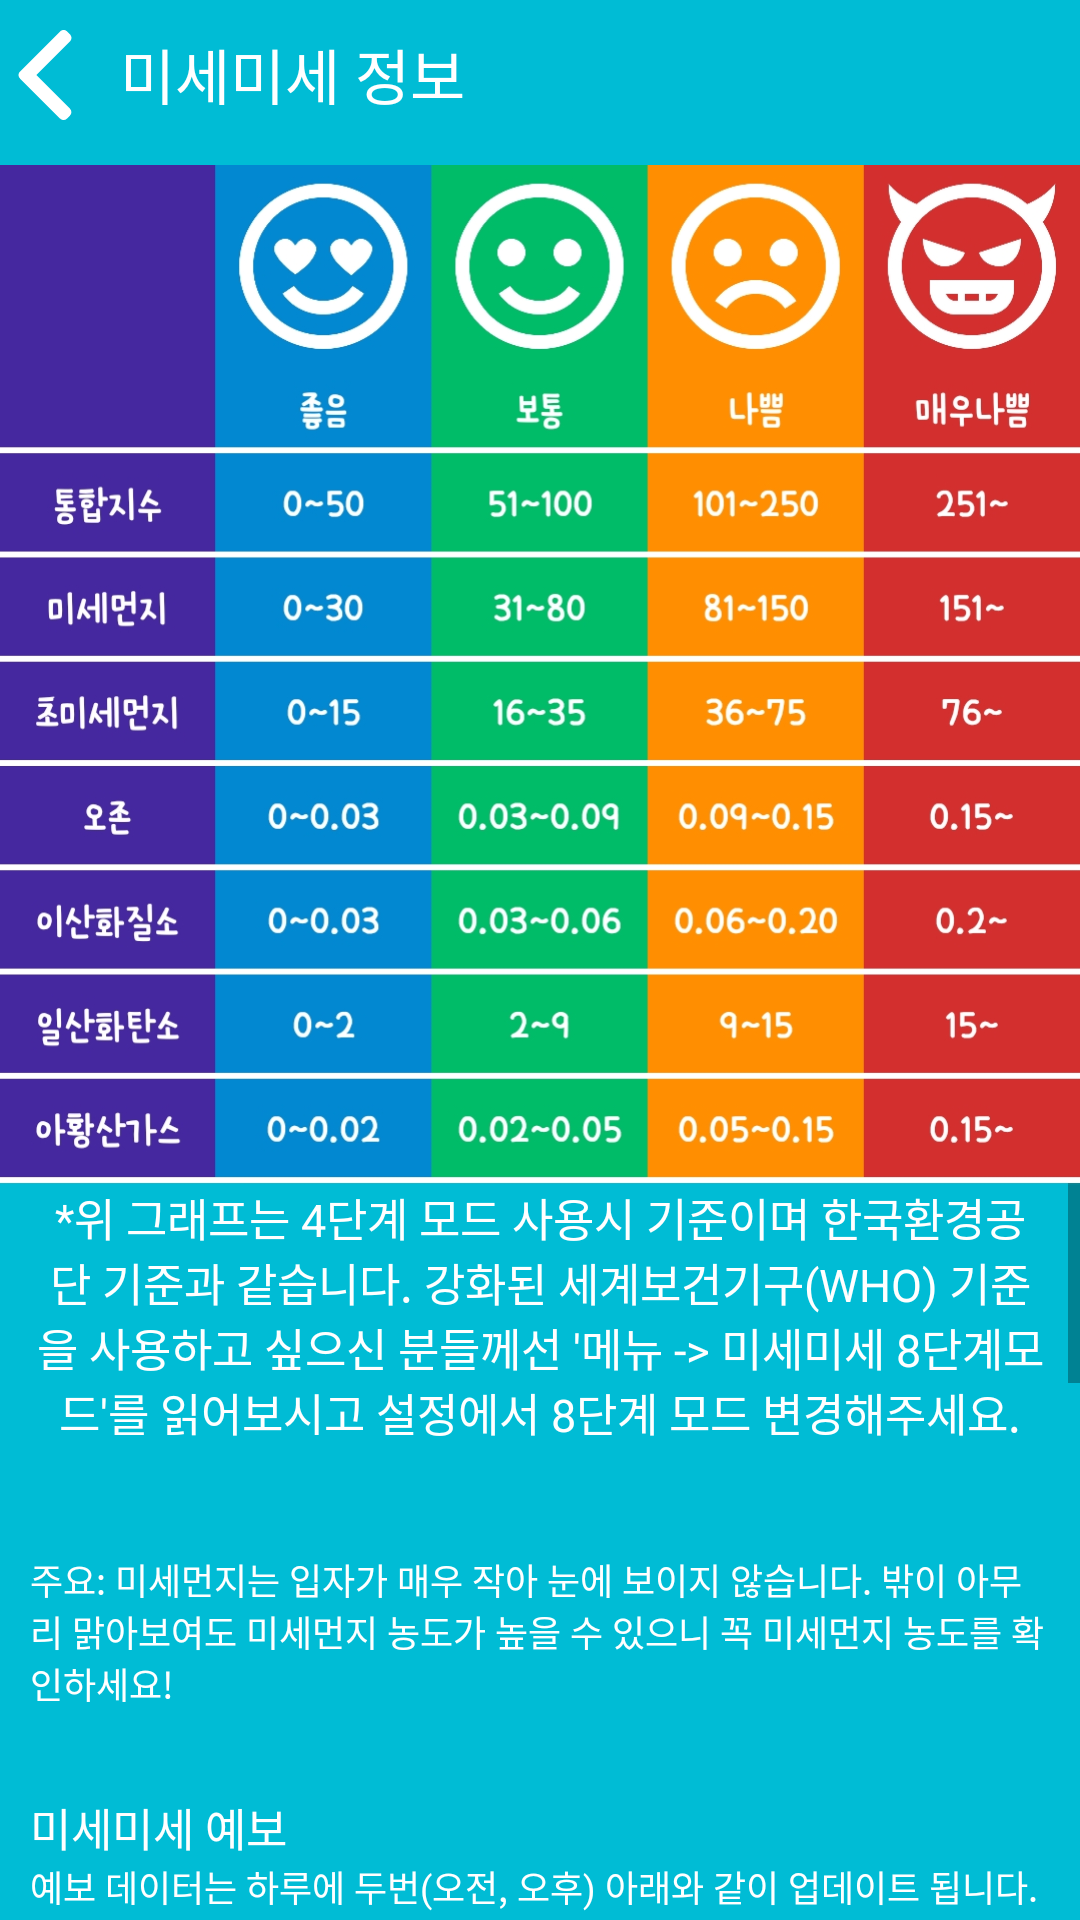

Screen size 1080 × 1920. Icon name, then its box in pixels as box=[x1, y1, x2, y2]:
back: box=[18, 30, 72, 120]
